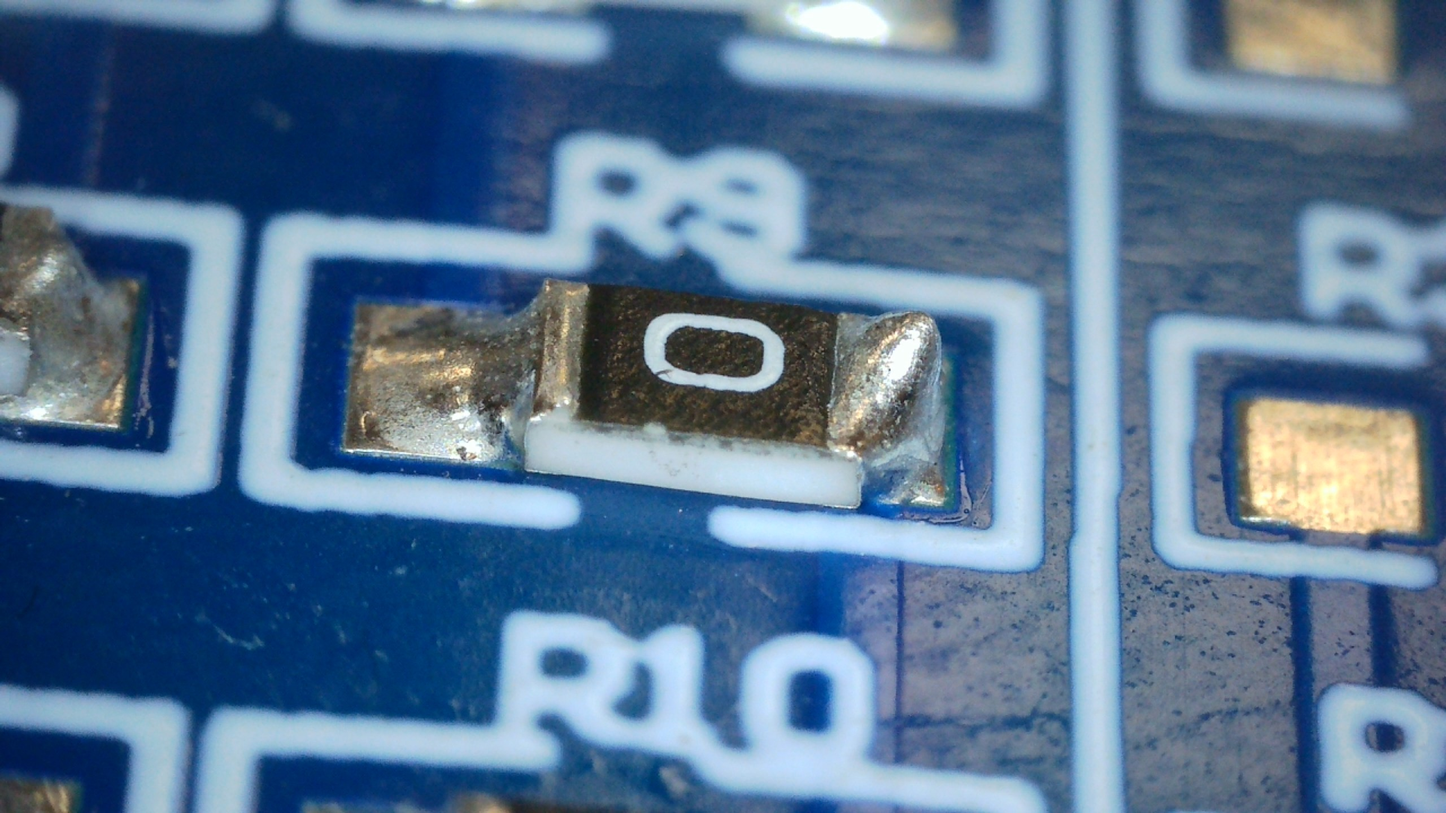NG: (374, 279, 586, 456), (827, 310, 944, 508)
OK: (367, 280, 586, 456)
